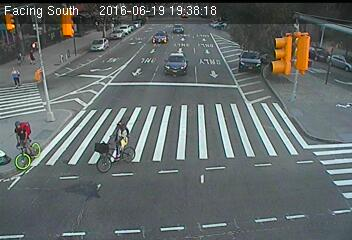neg: (90, 112, 140, 180), (254, 56, 276, 85), (50, 48, 71, 76), (67, 32, 81, 51), (48, 29, 59, 45)
pos: (4, 63, 24, 89), (23, 44, 41, 69), (13, 49, 27, 67)
